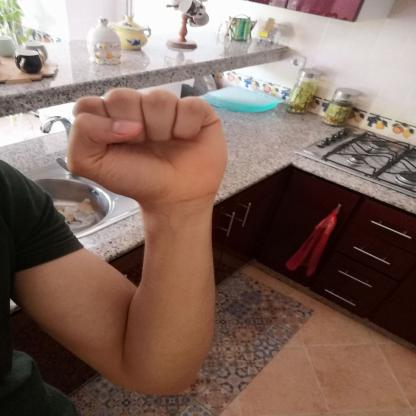SAD: (48, 73, 250, 220)
